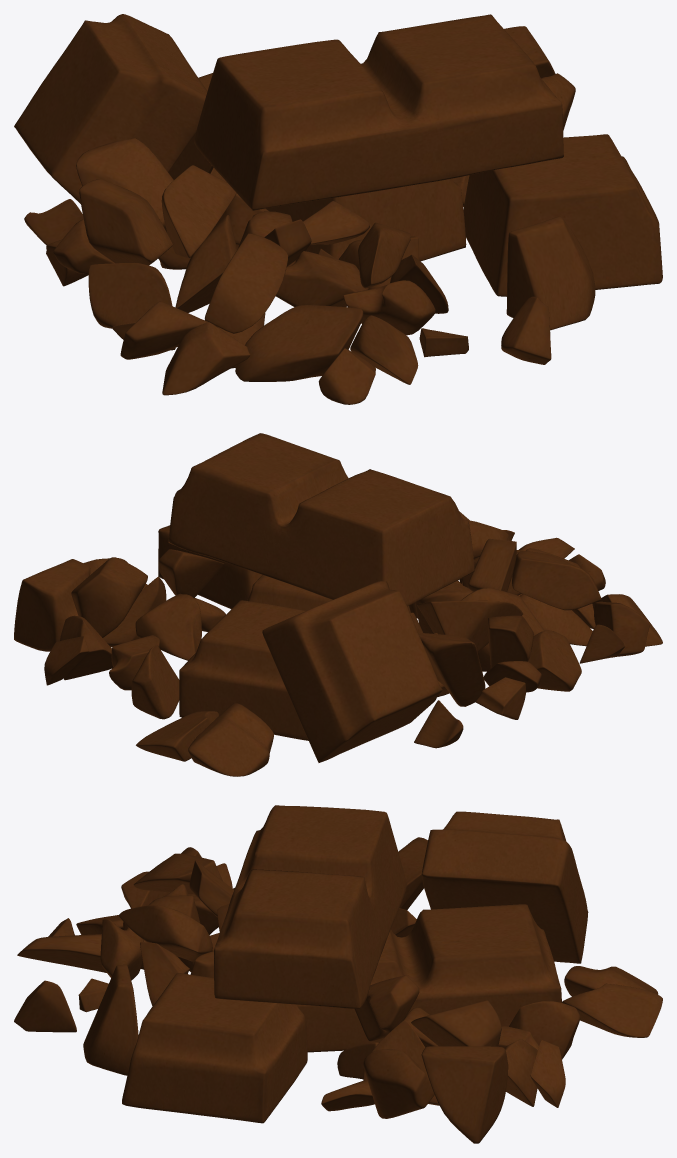
Rendered from darkchocho.glb.
3 views of the same model, one above another, from view 1: azimuth 30°, elevation 25°; view 2: azimuth 150°, elevation 25°; view 3: azimuth 270°, elevation 25° (orthographic). The views are drawn at different scales.
Parts seen in each view (by area): view 1: choco_50_low.001, choco_49_low.001, choco_48_low.001, choco_47_low.001, choco_01_low.001, choco_36_low.001, choco_08_low.001, choco_45_low.001, choco_04_low.001, choco_07_low.001, choco_02_low.001, choco_22_low.001 (+20 smaller); view 2: choco_50_low.001, choco_49_low.001, choco_47_low.001, choco_12_low.001, choco_14_low.001, choco_45_low.001, choco_16_low.001, choco_02_low.001, choco_33_low.001, choco_04_low.001, choco_40_low.001, choco_07_low.001 (+21 smaller); view 3: choco_50_low.001, choco_48_low.001, choco_47_low.001, choco_49_low.001, choco_12_low.001, choco_01_low.001, choco_46_low.001, choco_35_low.001, choco_41_low.001, choco_16_low.001, choco_29_low.001, choco_40_low.001 (+19 smaller).
Boxes of the visible parts, box(x1,y1,x2,y2) form: choco_50_low.001: box(194, 14, 563, 210); choco_49_low.001: box(14, 14, 207, 203); choco_48_low.001: box(463, 134, 662, 296); choco_47_low.001: box(168, 73, 466, 261); choco_01_low.001: box(506, 216, 595, 330); choco_36_low.001: box(235, 305, 363, 381); choco_08_low.001: box(79, 179, 173, 265); choco_45_low.001: box(204, 233, 288, 333); choco_04_low.001: box(161, 165, 236, 258); choco_07_low.001: box(88, 263, 172, 328); choco_02_low.001: box(76, 138, 173, 232); choco_22_low.001: box(162, 322, 250, 395); choco_50_low.001: box(168, 433, 474, 606); choco_49_low.001: box(262, 581, 442, 762); choco_47_low.001: box(179, 575, 410, 740); choco_12_low.001: box(14, 559, 90, 651); choco_14_low.001: box(188, 703, 273, 776); choco_45_low.001: box(512, 551, 601, 610); choco_16_low.001: box(71, 557, 147, 637); choco_02_low.001: box(418, 632, 485, 706); choco_33_low.001: box(135, 593, 201, 660); choco_04_low.001: box(417, 600, 522, 651); choco_40_low.001: box(131, 644, 179, 719); choco_07_low.001: box(528, 630, 581, 691); choco_50_low.001: box(214, 805, 406, 1008); choco_48_low.001: box(122, 973, 307, 1123); choco_47_low.001: box(297, 904, 561, 1052); choco_49_low.001: box(421, 811, 588, 963); choco_12_low.001: box(421, 1046, 508, 1143); choco_01_low.001: box(83, 964, 138, 1075); choco_46_low.001: box(562, 983, 662, 1037); choco_35_low.001: box(363, 1049, 434, 1118); choco_41_low.001: box(118, 905, 212, 961); choco_16_low.001: box(411, 1000, 501, 1046); choco_29_low.001: box(354, 975, 419, 1041); choco_40_low.001: box(509, 1001, 580, 1059).
Size of the model in its own units: 0.7869 by 0.2463 by 0.8409.
Materials: 1 (1 with a texture image).
